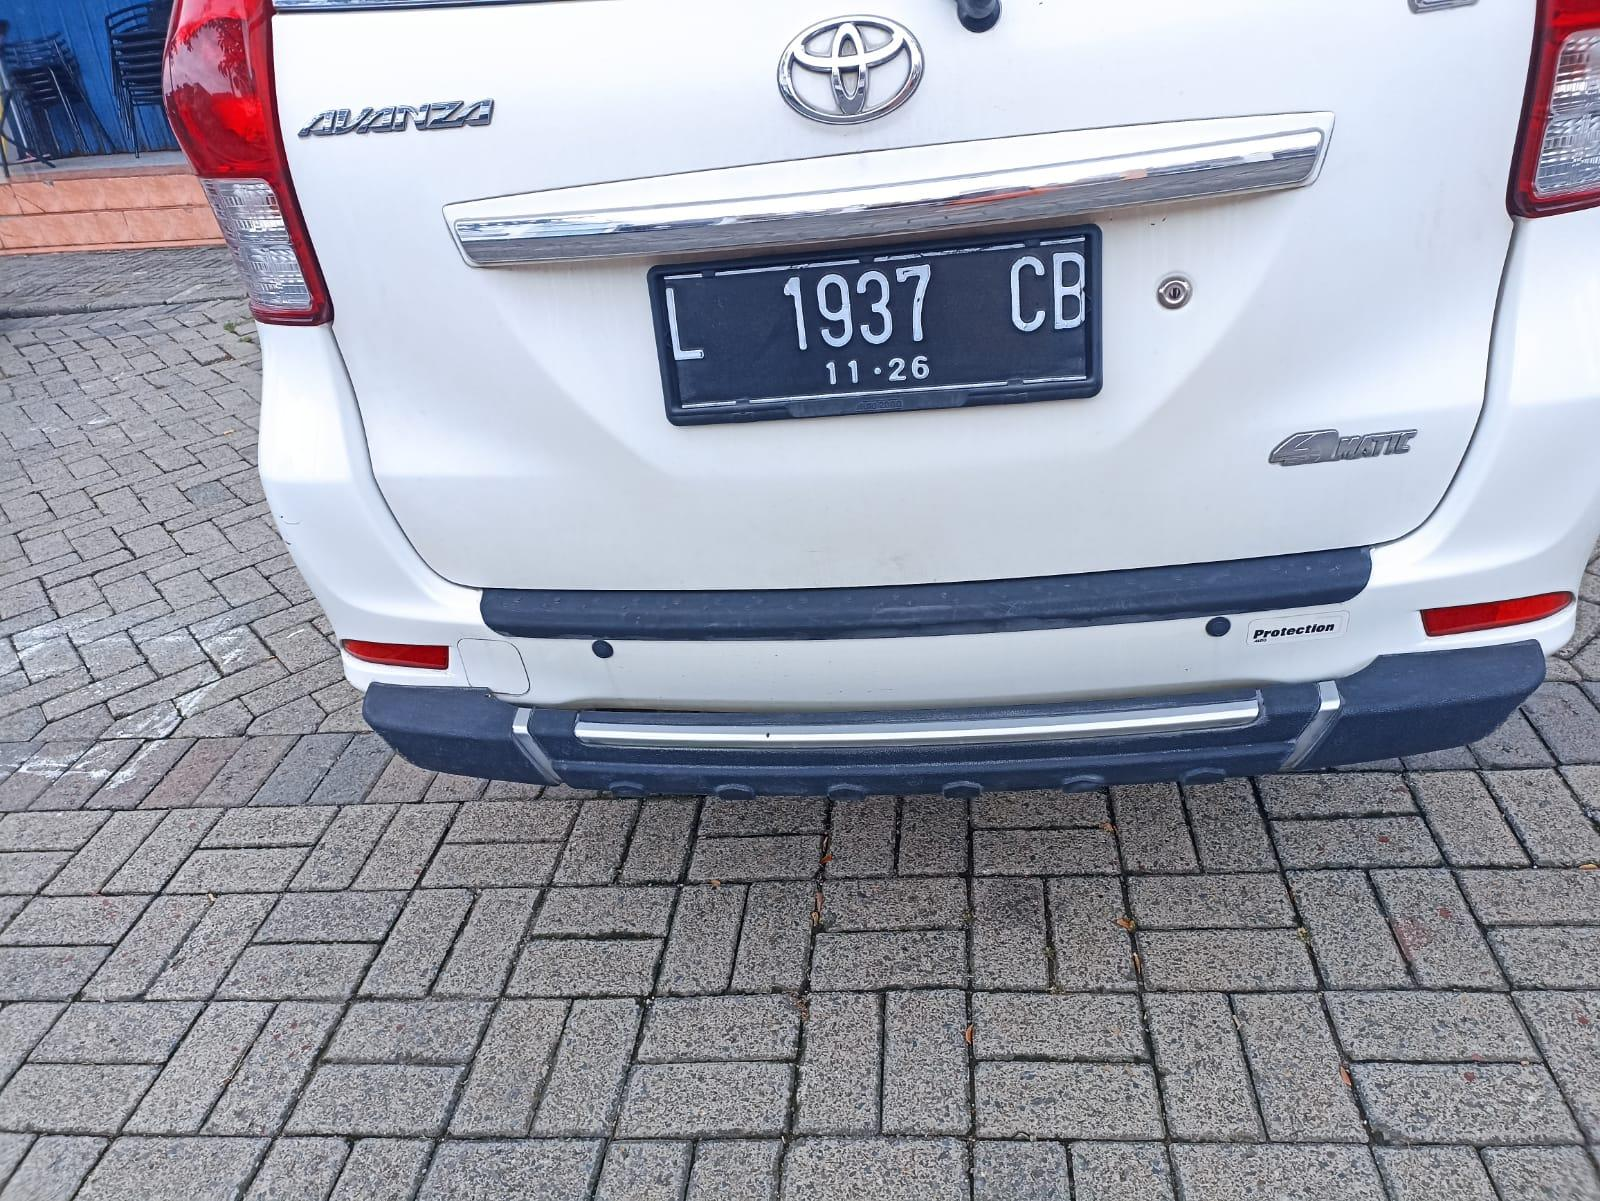plat: (650, 225, 1100, 425)
